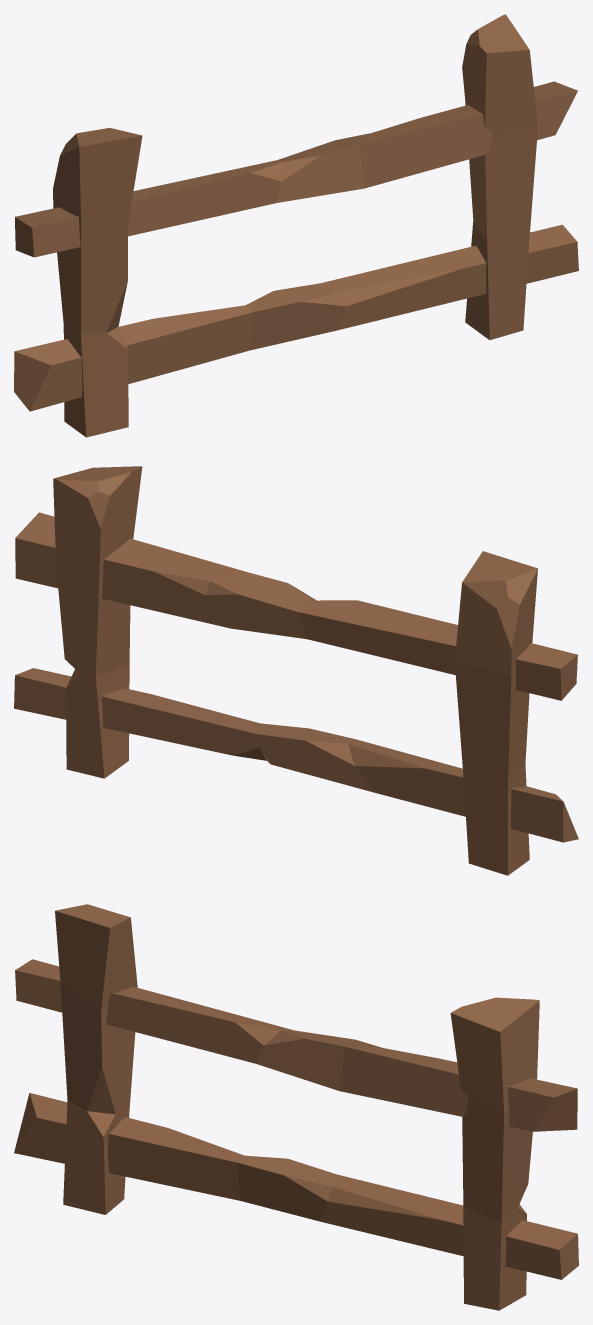
Rendered from fence.fbx.
3 renders of one model, top to bottom at view 1: azimuth 30°, elevation 25°; view 2: azimuth 150°, elevation 25°; view 3: azimuth 330°, elevation 25°, orthographic.
Visible parts, largest first — view 1: fence_LOD0; view 2: fence_LOD0; view 3: fence_LOD0.
Boxes of the visible parts, x1=… form: fence_LOD0: x1=14, y1=14, x2=578, y2=437; fence_LOD0: x1=14, y1=466, x2=578, y2=875; fence_LOD0: x1=14, y1=904, x2=578, y2=1310.
Size of what is drawn, in the model's own units: 300 by 153 by 33.24.
